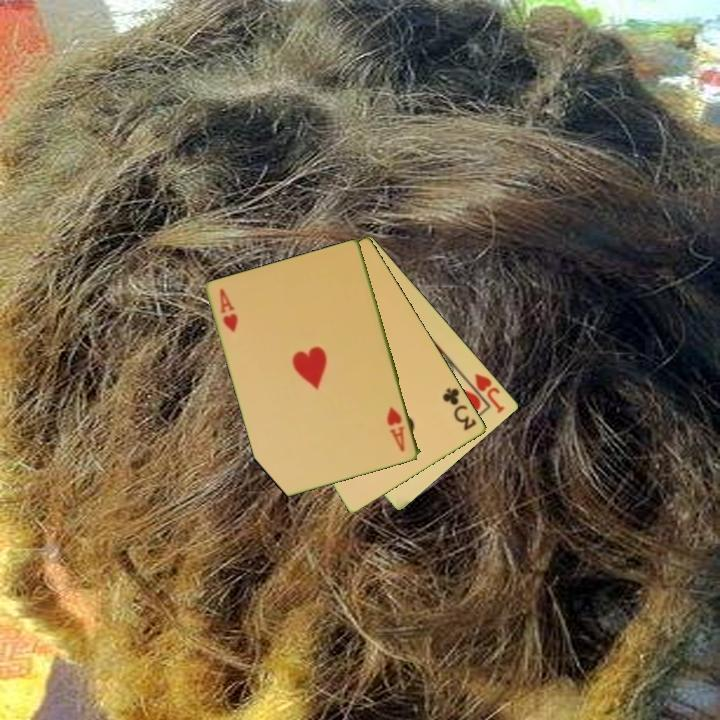3c: (439, 384, 480, 434)
Ah: (216, 285, 241, 335), (384, 404, 408, 455)
Jh: (471, 370, 508, 416)
